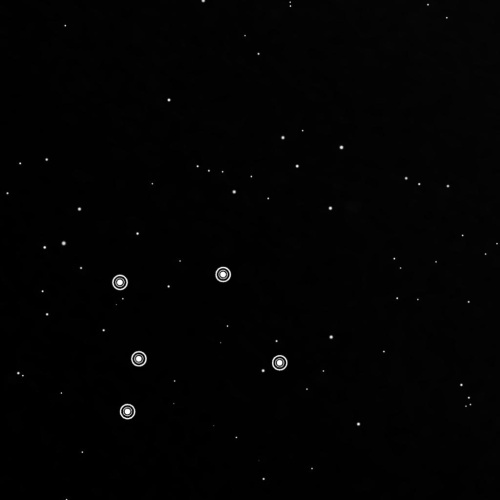libra: (106, 258, 294, 426)
